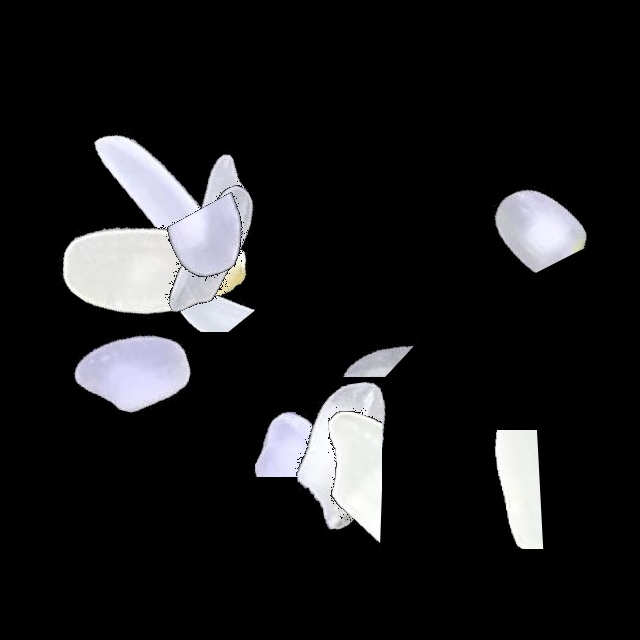Broken: (81, 106, 331, 280), (445, 70, 597, 320), (172, 337, 422, 477), (165, 142, 296, 392), (81, 209, 331, 332), (355, 430, 605, 549), (235, 269, 485, 377), (275, 363, 382, 613), (130, 420, 380, 513), (330, 119, 419, 369)
Full: (91, 101, 341, 351), (29, 142, 279, 392), (8, 248, 258, 498), (84, 122, 334, 372), (217, 333, 467, 583)
